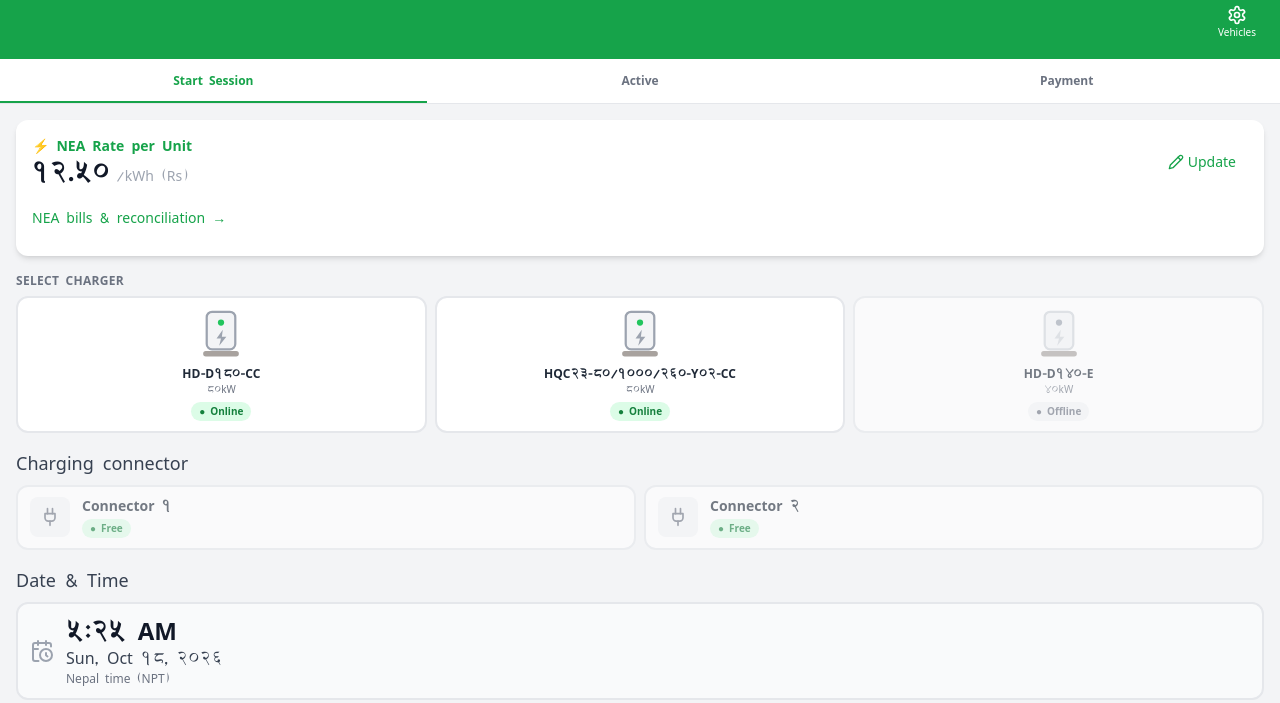
Test: EVEntryPage › starting a session › sends the start request, confirms with a toast and jumps to the Active tab
Click the radio button labelled "HD-D180-CC 80kW ● Online" at (221, 364), box top-left (16, 296), bottom-right (427, 432)
(page scrolled)
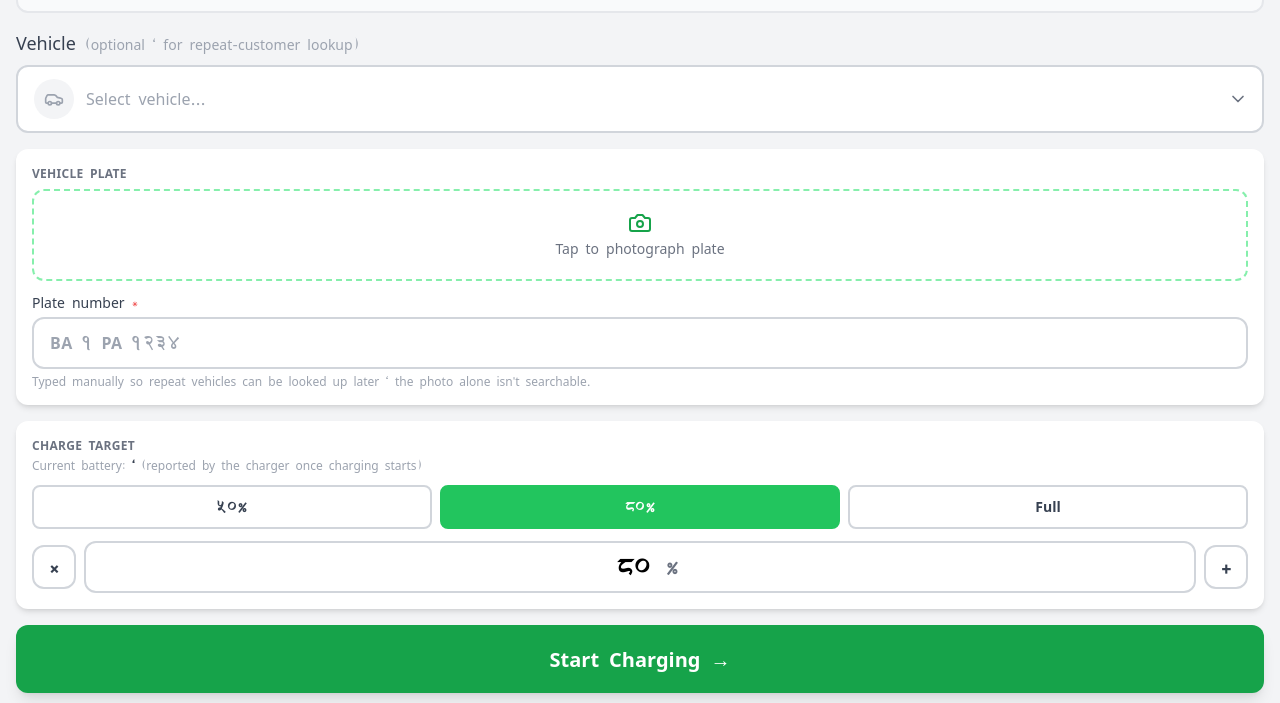
Type "ba 1 pa 4521" into the field labelled "Plate number *" at (640, 343), box top-left (32, 317), bottom-right (1248, 369)
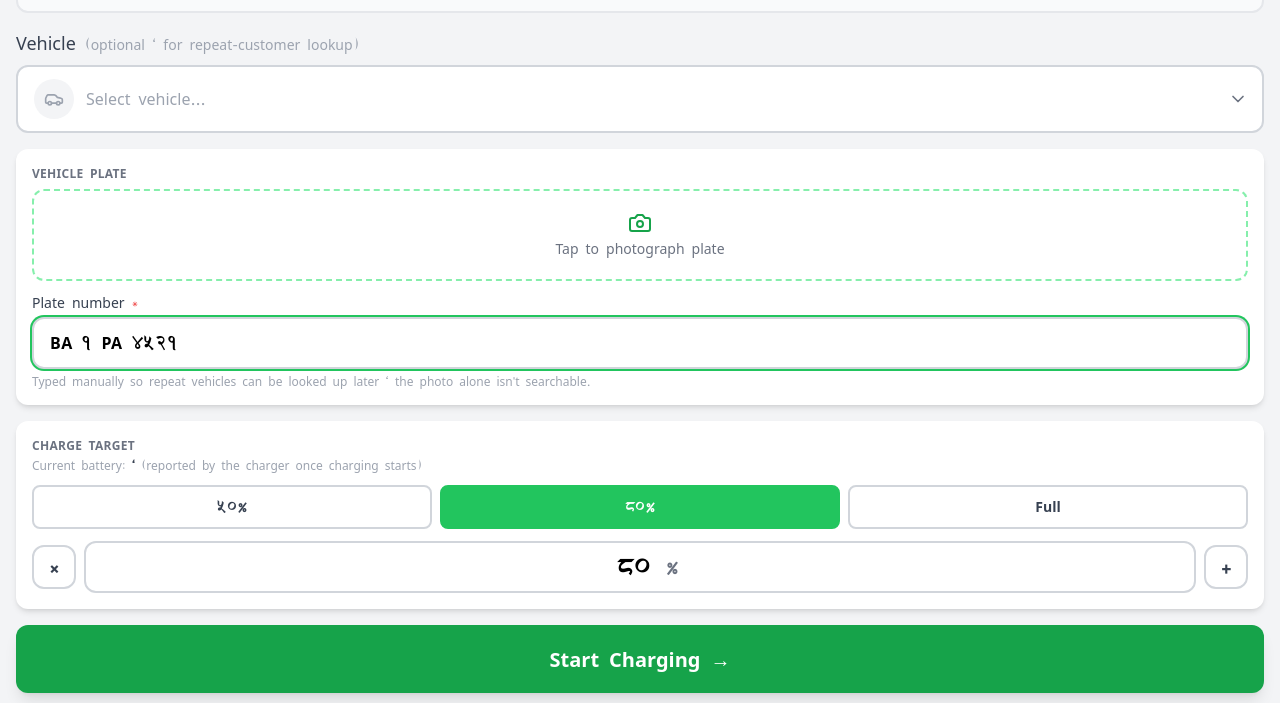
Click the button named "Vehicle (optional" at (54, 99), box top-left (16, 65), bottom-right (1264, 133)
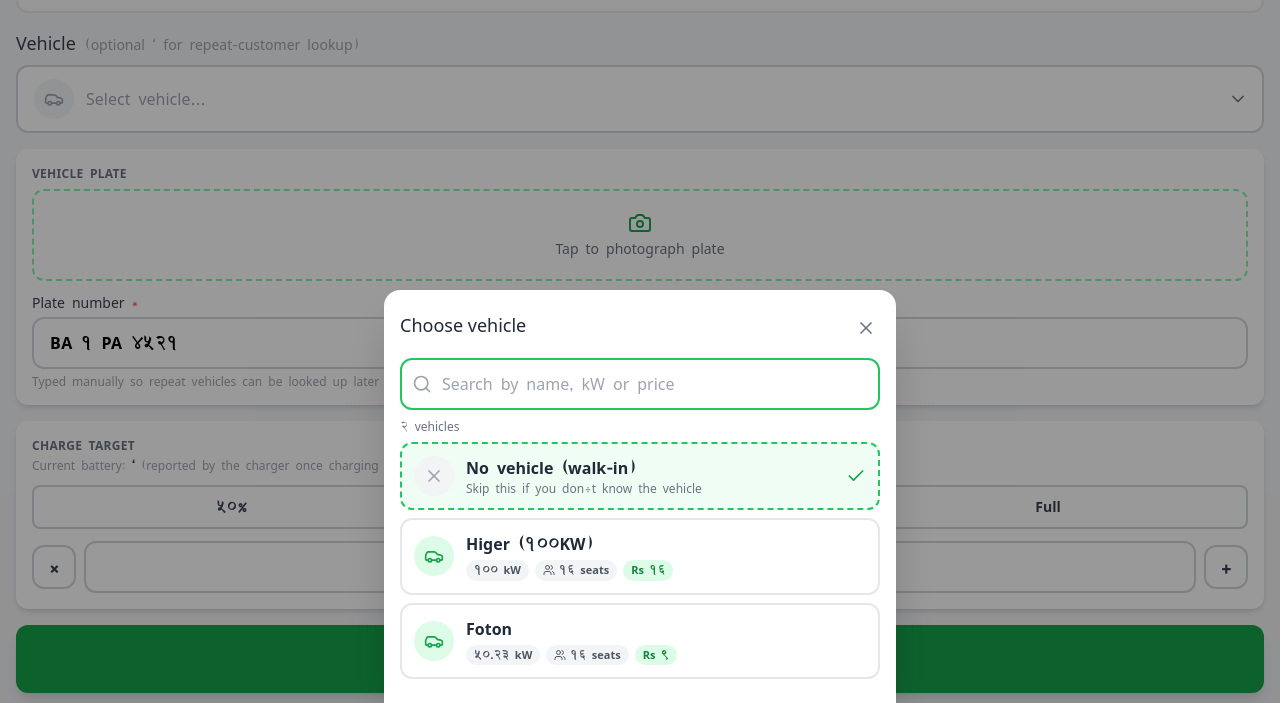
Click the option "Foton 50.23 kW 16 seats Rs 9" at (434, 641), box top-left (400, 602), bottom-right (880, 679)
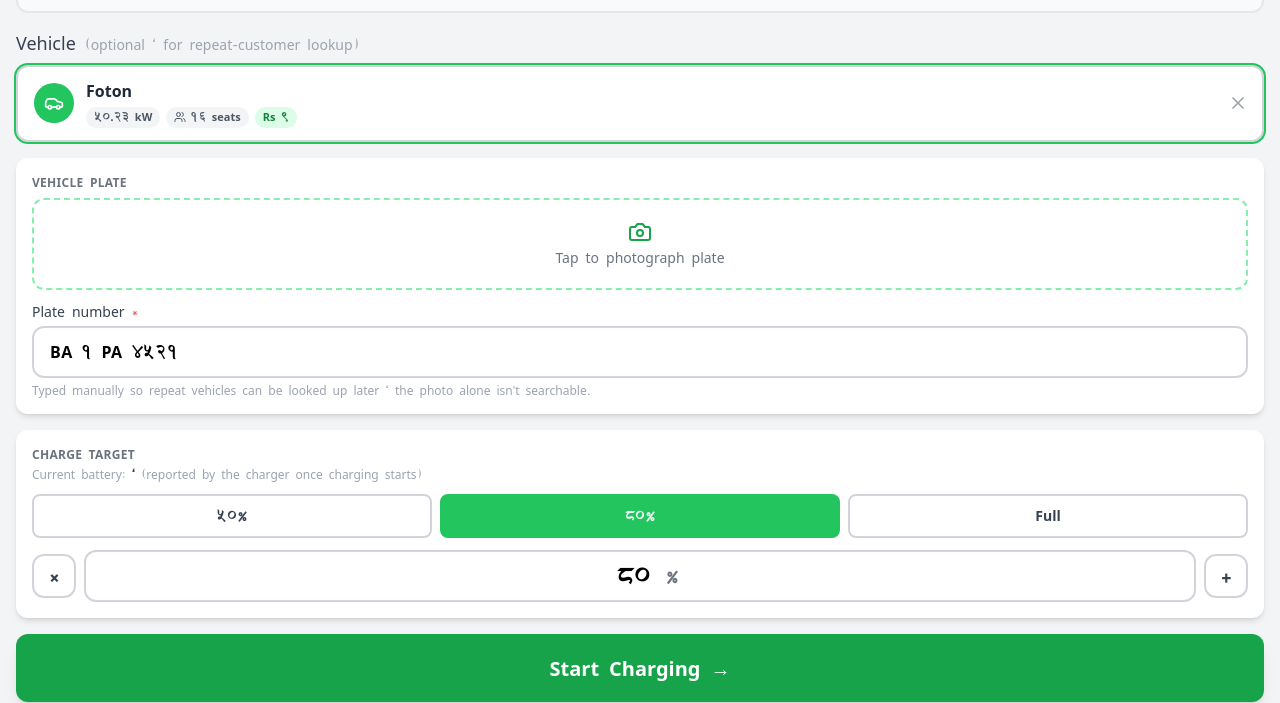
Click the button "50%" at (232, 516), box top-left (32, 494), bottom-right (432, 538)
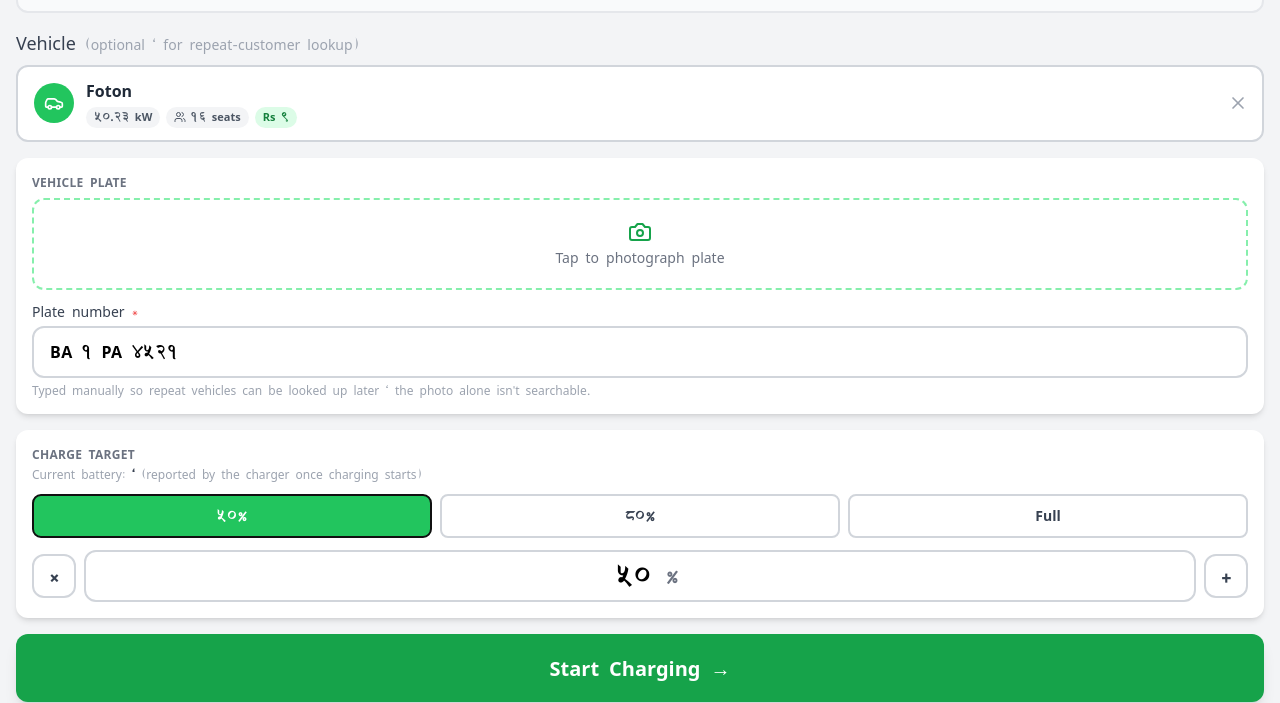
Click the button "Start Charging →" at (640, 668), box top-left (16, 634), bottom-right (1264, 702)
(page scrolled)
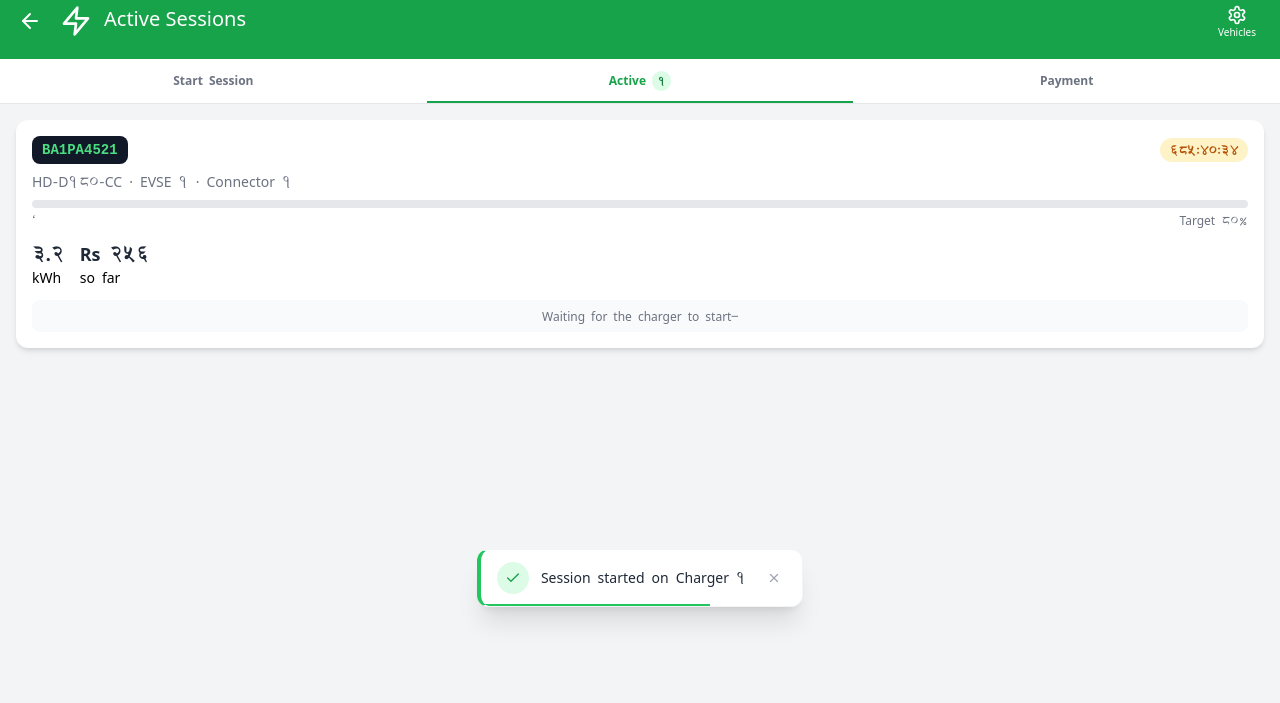
Now the text "Session started on Charger 1" is shown, box top-left (541, 568), bottom-right (750, 588)
Now the element with test id "active-session" shows "BA1PA4521", box top-left (42, 142), bottom-right (118, 158)
